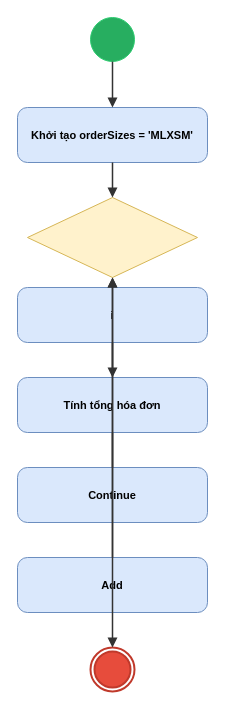
The diagram is 225 pixels wide and 710 high, and some of its shapes have lost their labels. Each missing label, with the centre of its shape:
"[Bắt đầu]" belongs at point (112, 39).
"[Kết thúc]" belongs at point (112, 669).
"Vòng lặp qua từng ký tự" belongs at point (112, 237).
